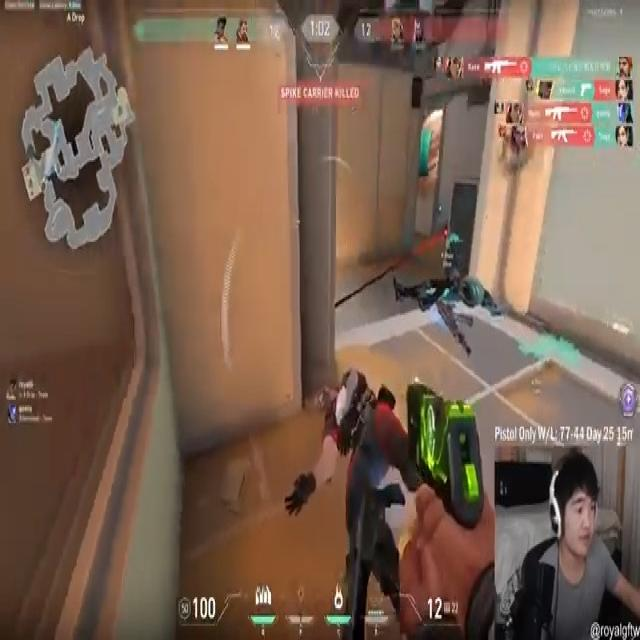smoke: (424, 112, 447, 182)
